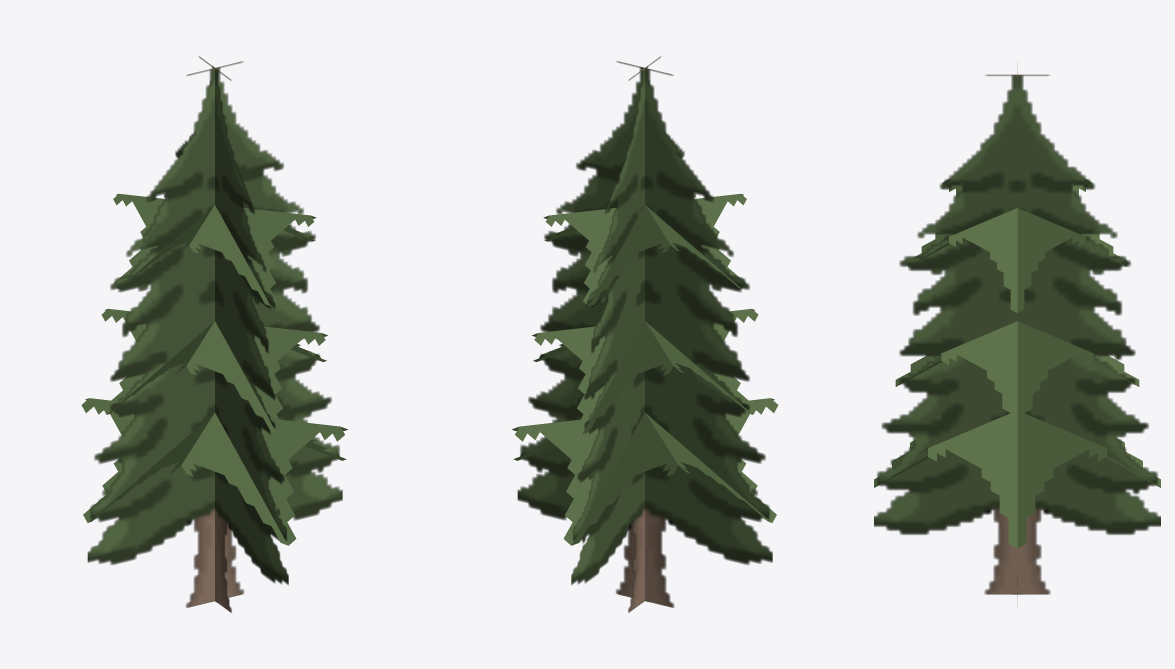
The model's file is Pine.glb.
3 views of the same model, side by side, from view 1: azimuth 30°, elevation 25°; view 2: azimuth 150°, elevation 25°; view 3: azimuth 270°, elevation 25° (orthographic). The views are drawn at different scales.
Parts seen in each view (by area): view 1: Plane.001; view 2: Plane.001; view 3: Plane.001.
Part boxes in pixels (x1,y1,x2,y2): Plane.001: [81, 56, 347, 612]; Plane.001: [512, 56, 778, 612]; Plane.001: [874, 62, 1160, 606].
Bounding box in the file's own units: 10 × 20 × 10.
2 materials, 2 textured.
